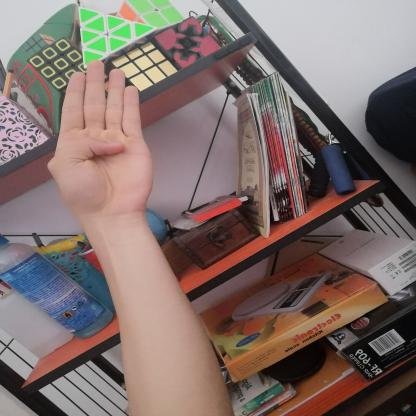KAAF: (33, 45, 174, 237)
